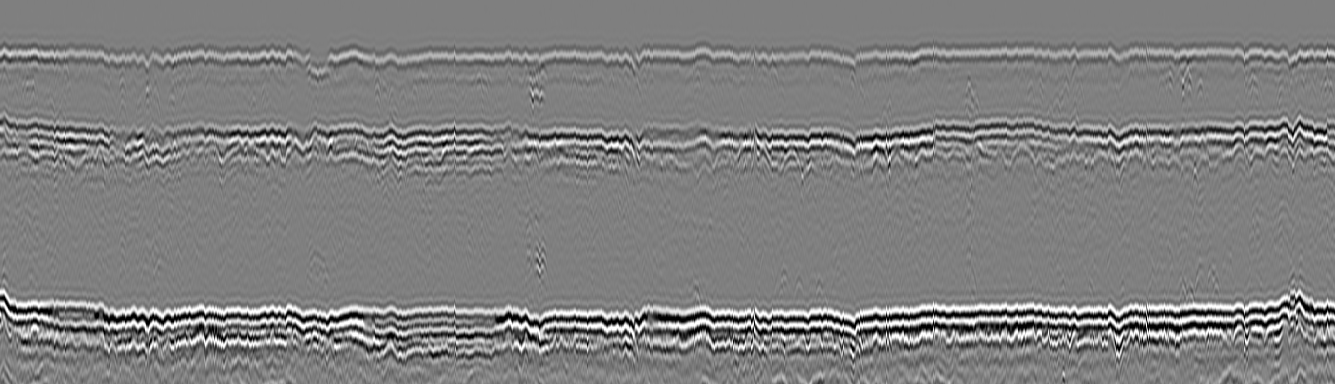fault: (1100, 102, 1143, 185), (297, 32, 345, 99), (285, 118, 324, 199), (129, 119, 174, 187), (1272, 104, 1311, 181), (1278, 34, 1312, 87), (1100, 30, 1135, 80), (131, 41, 167, 88)
